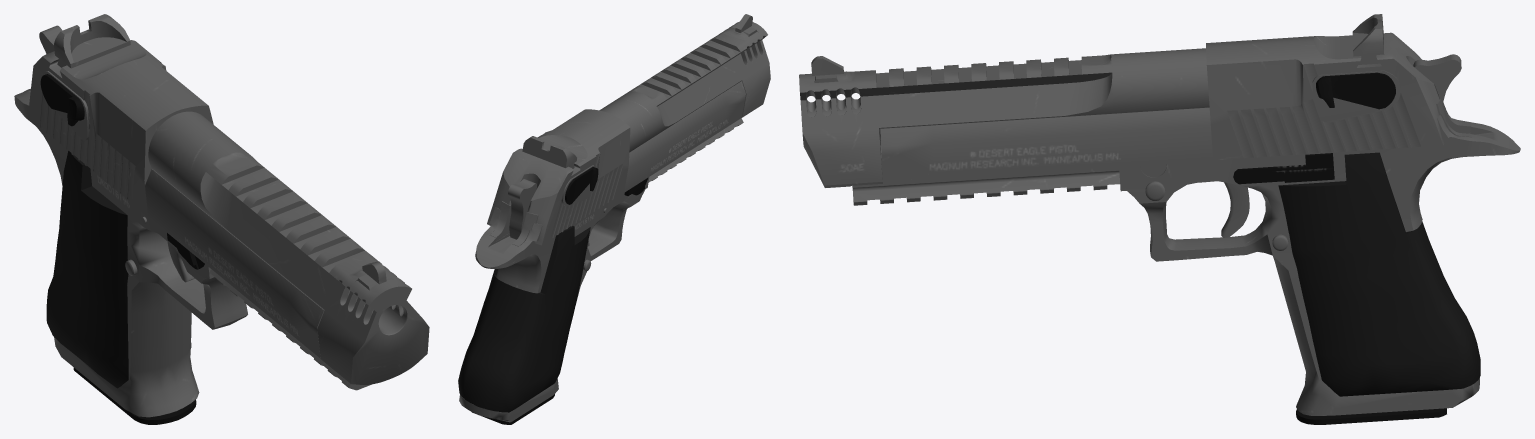
The model's file is DesertEagle.obj.
3 views of the same model, side by side, from view 1: azimuth 30°, elevation 25°; view 2: azimuth 150°, elevation 25°; view 3: azimuth 270°, elevation 25° (orthographic). The views are drawn at different scales.
Visible parts, largest first — view 1: Gun_Lowpoly_DesertEagle_0, Barrel_Lowpoly_DesertEagle_0, Magazine_Lowpoly_DesertEagle_0; view 2: Gun_Lowpoly_DesertEagle_0, Barrel_Lowpoly_DesertEagle_0, Back_Hammer_Lowpoly_DesertEagle_0; view 3: Gun_Lowpoly_DesertEagle_0, Barrel_Lowpoly_DesertEagle_0, Magazine_Lowpoly_DesertEagle_0, Back_Hammer_Lowpoly_DesertEagle_0.
Part boxes in pixels (left/top/right/bottom): Gun_Lowpoly_DesertEagle_0: left=14, top=88, right=429, bottom=417; Barrel_Lowpoly_DesertEagle_0: left=28, top=14, right=324, bottom=358; Magazine_Lowpoly_DesertEagle_0: left=73, top=367, right=196, bottom=424; Gun_Lowpoly_DesertEagle_0: left=458, top=14, right=770, bottom=422; Barrel_Lowpoly_DesertEagle_0: left=487, top=81, right=745, bottom=245; Back_Hammer_Lowpoly_DesertEagle_0: left=508, top=179, right=536, bottom=239; Gun_Lowpoly_DesertEagle_0: left=799, top=48, right=1520, bottom=415; Barrel_Lowpoly_DesertEagle_0: left=880, top=14, right=1444, bottom=181; Magazine_Lowpoly_DesertEagle_0: left=1296, top=408, right=1446, bottom=424; Back_Hammer_Lowpoly_DesertEagle_0: left=1413, top=54, right=1461, bottom=104.
Size of the model in its own units: 0.2302 by 0.648 by 1.12.
